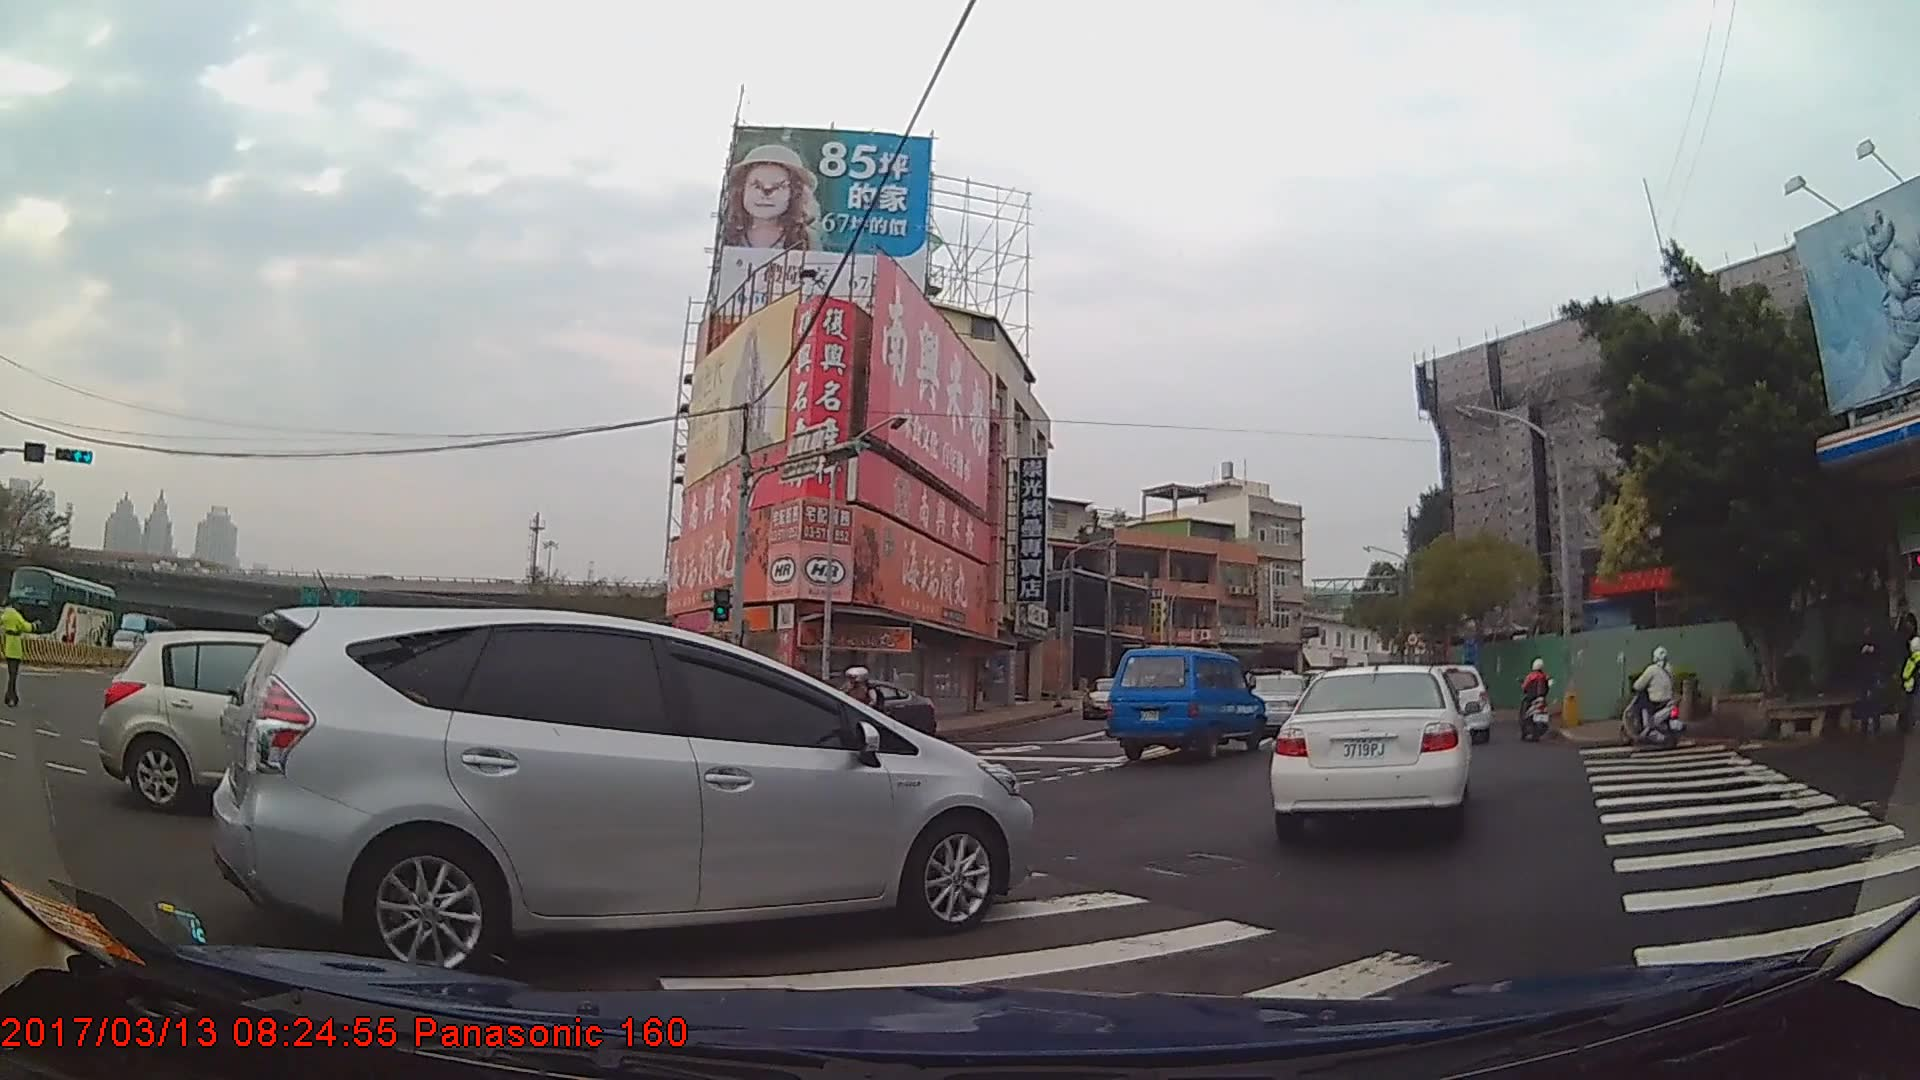pedestrian: (1, 595, 45, 711), (1848, 618, 1887, 740)
rider: (1622, 644, 1684, 750), (1517, 659, 1555, 740)
vehicle: (210, 605, 1035, 976), (96, 626, 432, 812), (1269, 664, 1471, 840), (1104, 648, 1263, 763), (7, 564, 113, 660), (806, 677, 938, 742), (1420, 662, 1494, 744), (1238, 672, 1311, 744)
